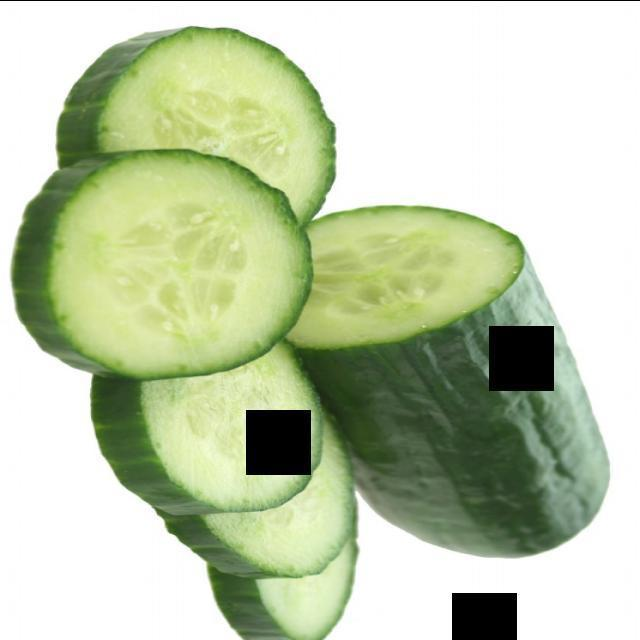cucumber: (4, 3, 640, 640), (216, 180, 605, 570), (0, 134, 344, 398), (3, 7, 360, 245), (79, 287, 365, 545), (142, 400, 440, 640)
